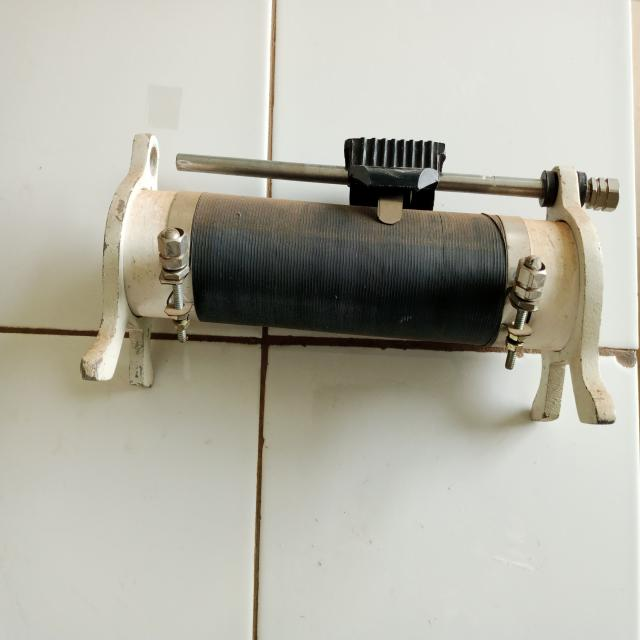Rheostat: (75, 107, 640, 433)
